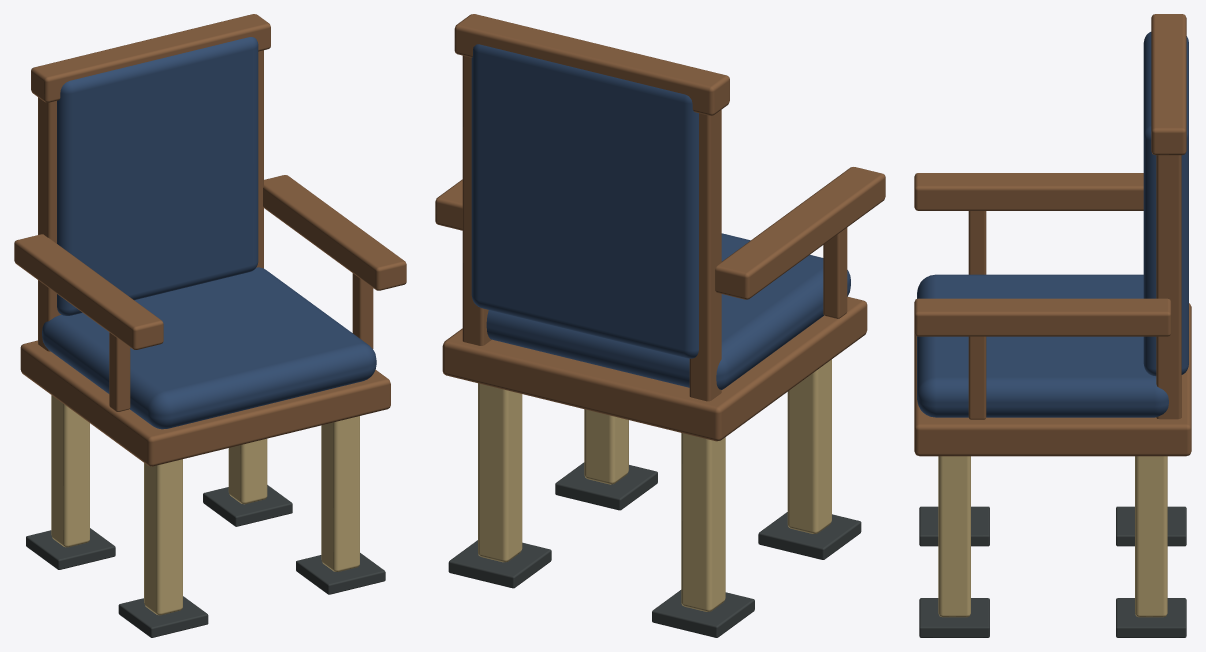
Rendered from tribunal_cadeira_advogado.glb.
The picture shows the model from 3 angles, left to right: view 1: azimuth 30°, elevation 25°; view 2: azimuth 150°, elevation 25°; view 3: azimuth 270°, elevation 25°; orthographic projection. The views are drawn at different scales.
Visible parts, largest first — view 1: city-courthouse-and-records-office-counsel-chair; view 2: city-courthouse-and-records-office-counsel-chair; view 3: city-courthouse-and-records-office-counsel-chair.
Boxes of the visible parts, x1,y1,x2,y2 form: city-courthouse-and-records-office-counsel-chair: [14, 14, 406, 637]; city-courthouse-and-records-office-counsel-chair: [435, 14, 885, 637]; city-courthouse-and-records-office-counsel-chair: [914, 14, 1191, 637].
Bounding box in the file's own units: 0.665 × 1.11 × 0.55.
